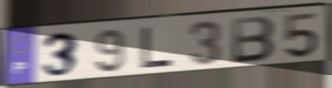3: (40, 30, 83, 81), (188, 18, 224, 68)
5: (283, 12, 319, 59)
9: (94, 29, 126, 74)
B: (230, 14, 277, 66)
L: (139, 25, 175, 71)
